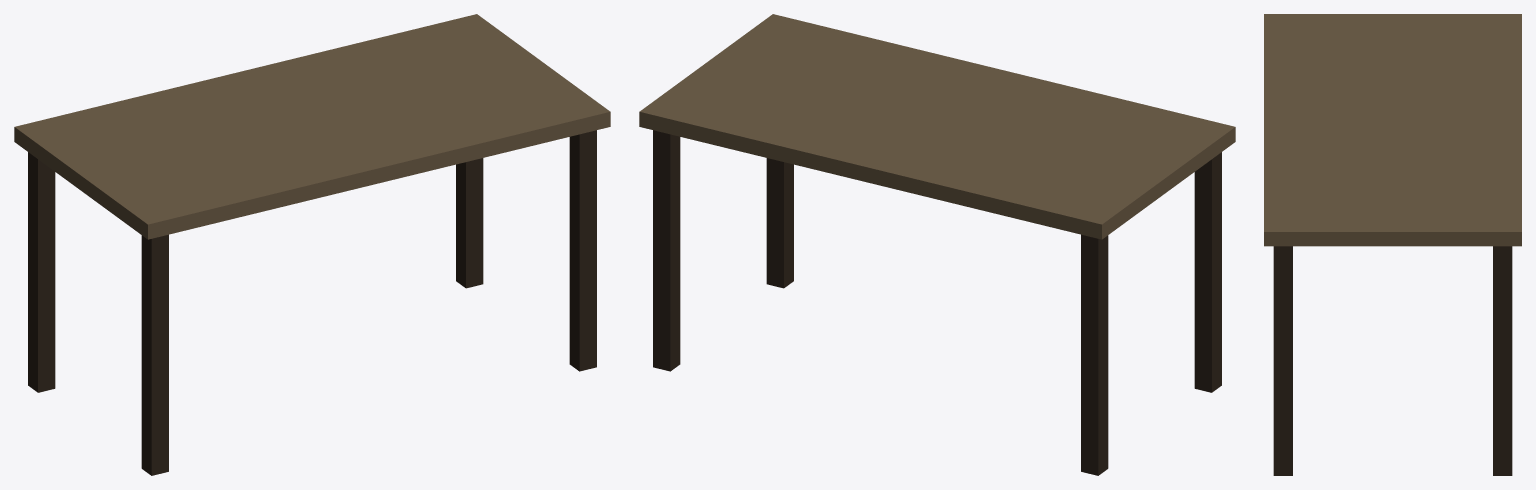
File: prop_laundry_table.glb
3 renders of one model, left to right at view 1: azimuth 30°, elevation 25°; view 2: azimuth 150°, elevation 25°; view 3: azimuth 270°, elevation 25°, orthographic. The views are drawn at different scales.
Visible parts, largest first — view 1: body; view 2: body; view 3: body.
Boxes of the visible parts, x1,y1,x2,y2 form: body: (14,14,610,475); body: (639,14,1235,475); body: (1264,14,1521,475).
Size of the model in its own units: 1.6 by 0.85 by 0.8.
